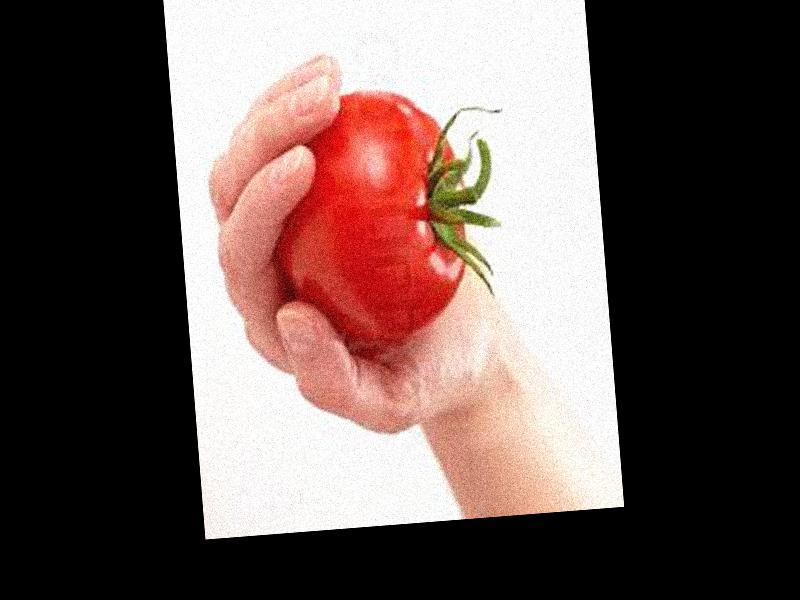Tomato: (265, 84, 476, 344)
